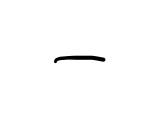minus: (54, 52, 103, 65)
